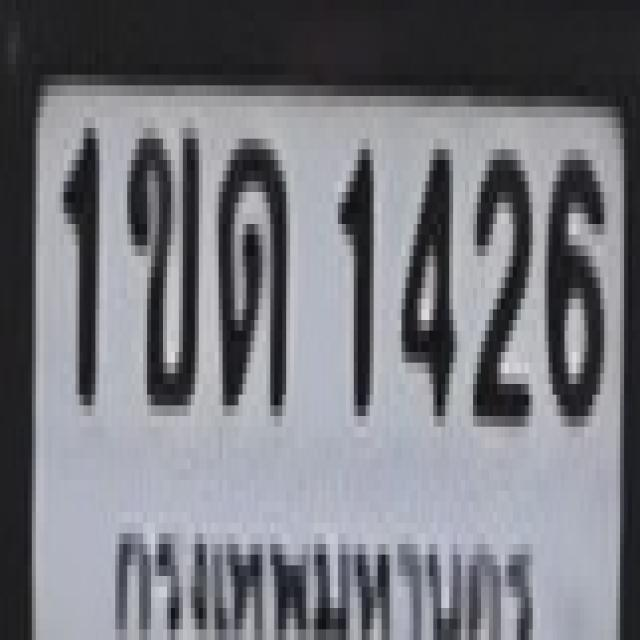-: (123, 117, 195, 395), (215, 123, 282, 400)
1: (60, 117, 96, 395), (334, 139, 370, 405)
2: (469, 139, 529, 416)
4: (398, 139, 449, 405)
6: (541, 139, 600, 416)
BKK: (100, 501, 544, 640)
